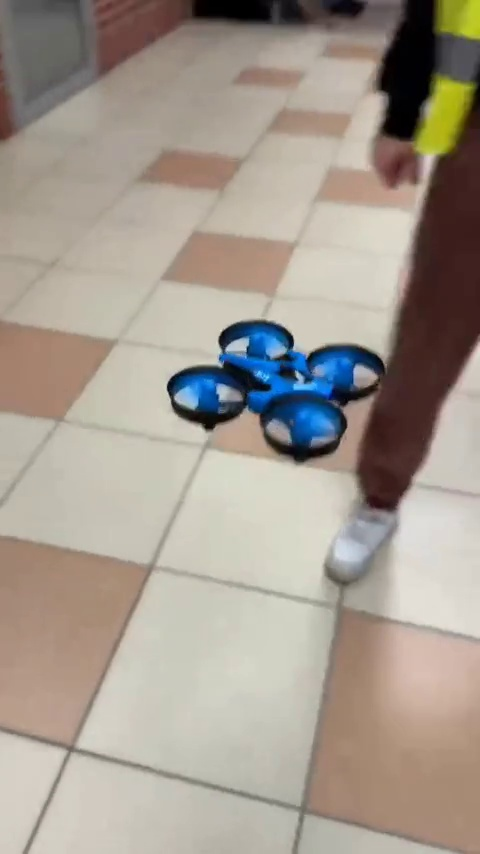drone: (164, 316, 388, 454)
